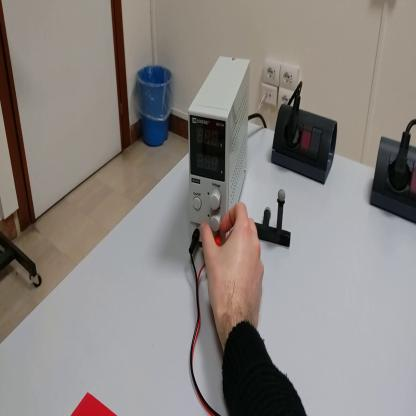hand: (200, 203, 266, 332)
power supply: (187, 56, 251, 247)
register: (73, 389, 116, 415)
socket: (273, 105, 340, 187), (369, 132, 416, 224)
